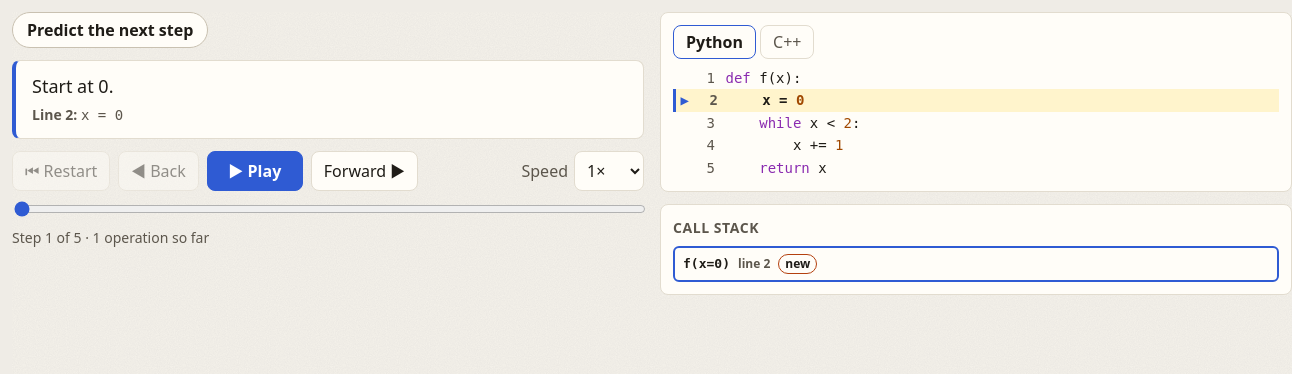
predict mode asks before revealing, then scores the answer
Click the button "Predict the next step" at x=110, y=30, box left=12, top=12, right=208, bottom=48
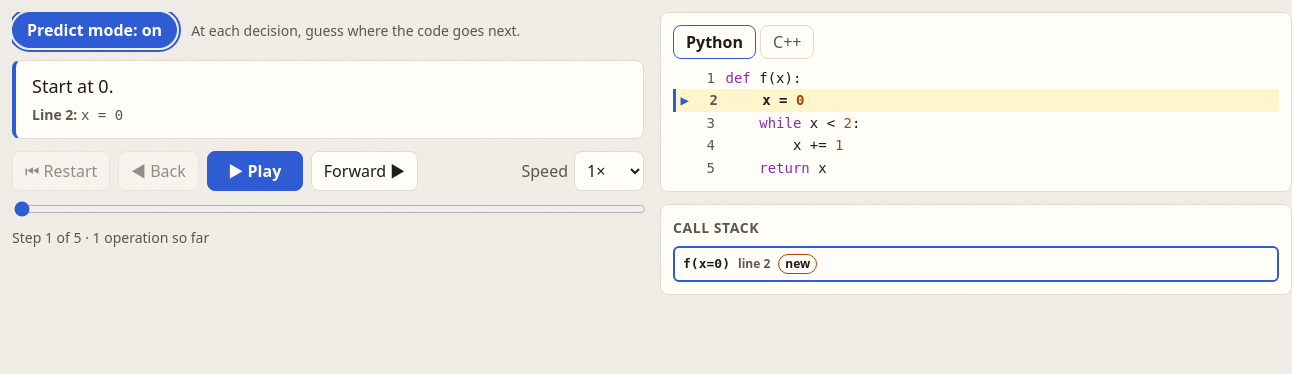
Expected: the button "Predict mode: on" is pressed, left=12, top=12, right=177, bottom=48
Press Arrowright
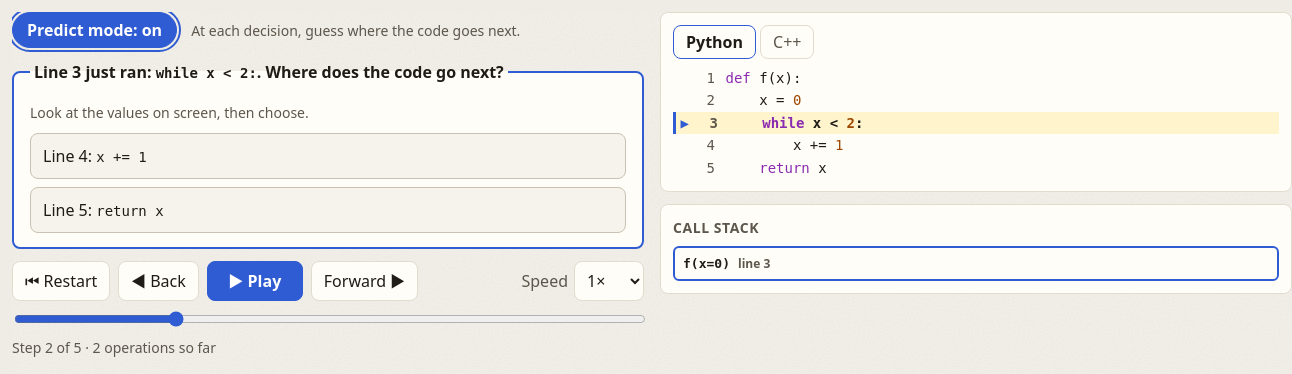
Expected: the text "0 < 2, so loop." is not shown
Click the button "Line 5: return x" at x=61, y=210, box left=30, top=187, right=626, bottom=233
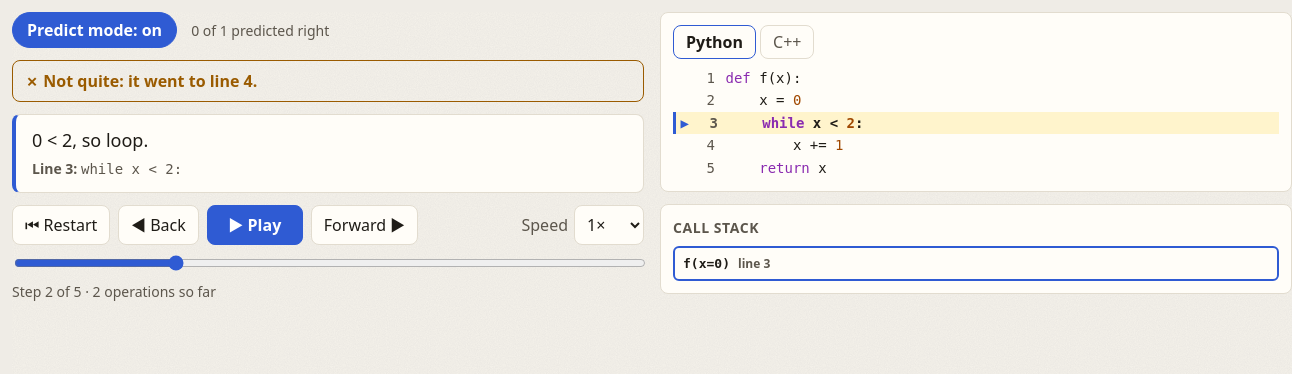
Expected: the element "Line 3 just ran: while x < 2:. Where does the code go next?" is gone
Expected: the text "✗ Not quite: it went to line 4." is shown, left=12, top=60, right=644, bottom=102
Expected: the text "0 of 1 predicted right" is shown, left=191, top=20, right=329, bottom=40
Press Arrowright Arrowright
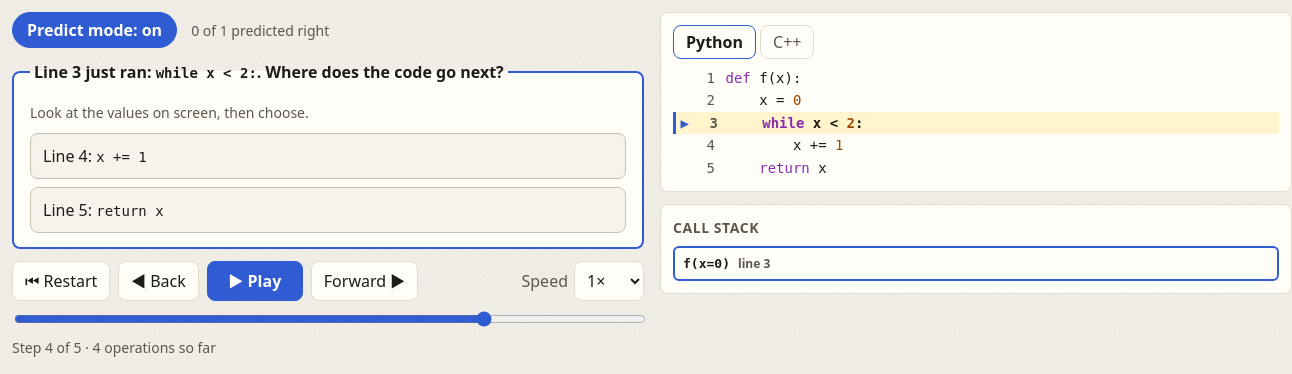
Click the button "Line 5: return x" at x=61, y=210, box left=30, top=187, right=626, bottom=233
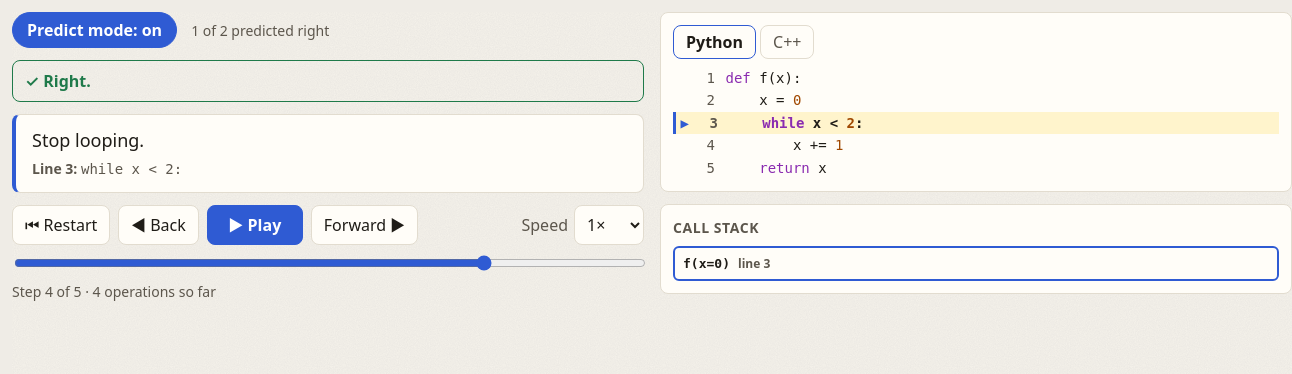
Expected: the text "✓ Right." is shown, left=12, top=60, right=644, bottom=102
Expected: the text "1 of 2 predicted right" is shown, left=191, top=20, right=329, bottom=40
